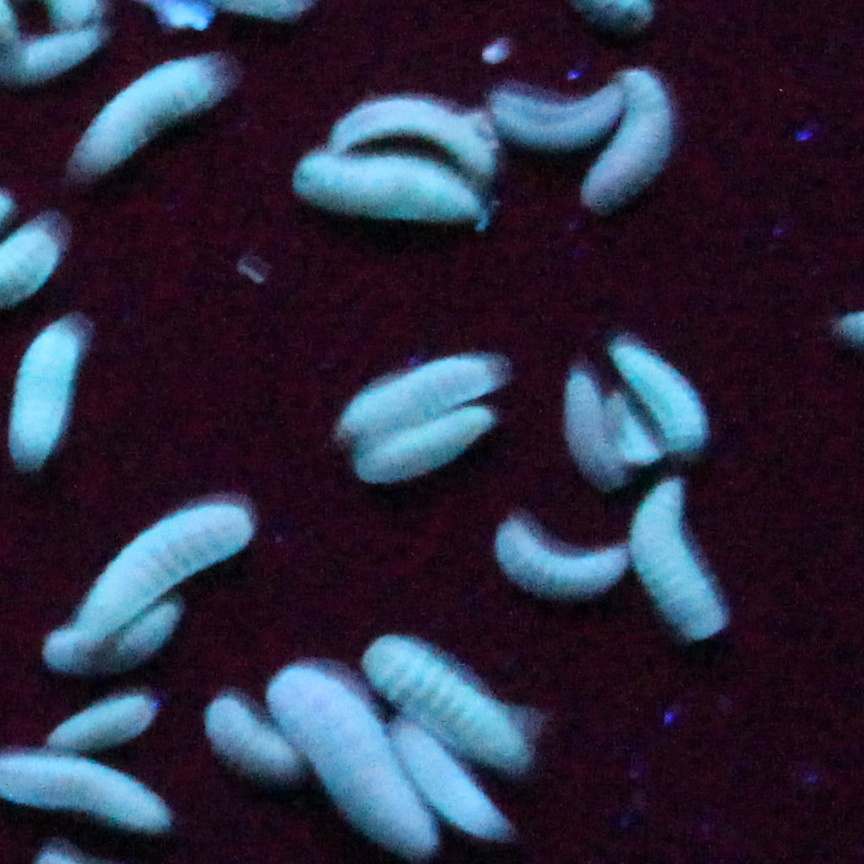larve: (44, 505, 251, 666), (267, 666, 433, 857), (362, 635, 527, 770), (77, 57, 213, 167), (632, 482, 724, 641), (393, 724, 510, 846), (293, 152, 481, 223), (331, 99, 491, 175), (342, 357, 490, 433), (586, 72, 668, 206), (356, 406, 489, 483), (497, 522, 628, 595), (613, 346, 704, 448), (9, 325, 76, 459), (491, 85, 626, 142), (206, 698, 296, 777), (566, 376, 623, 488), (48, 697, 153, 751), (2, 28, 99, 77), (607, 392, 657, 463)
